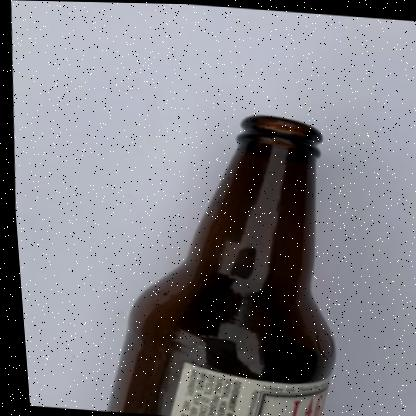Glass: (101, 113, 330, 416)
